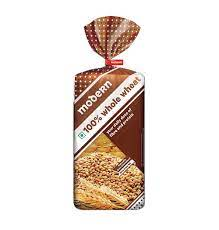bread: (71, 16, 151, 216)
